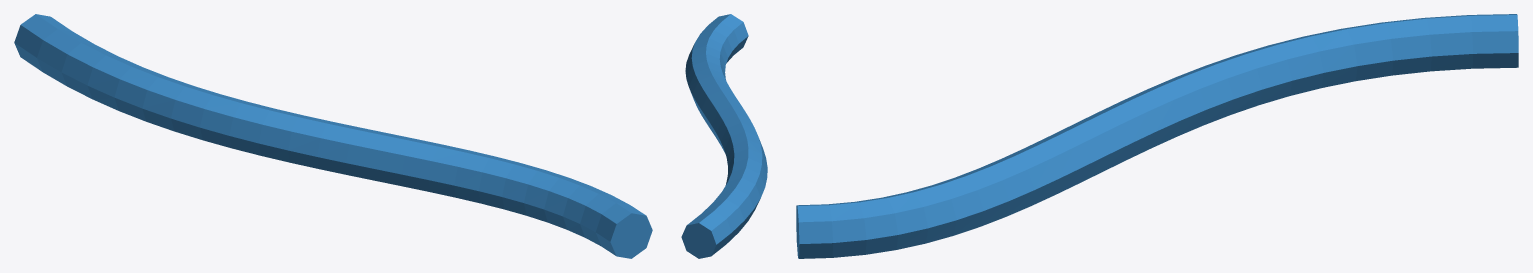
Rendered from motor_blue_lead_to_splice_4.glb.
3 renders of one model, left to right at view 1: azimuth 30°, elevation 25°; view 2: azimuth 150°, elevation 25°; view 3: azimuth 270°, elevation 25°, orthographic. The views are drawn at different scales.
Visible parts, largest first — view 1: motor_blue_lead_to_splice_4; view 2: motor_blue_lead_to_splice_4; view 3: motor_blue_lead_to_splice_4.
Part boxes in pixels (x1,y1,x2,y2): motor_blue_lead_to_splice_4: [14, 14, 652, 258]; motor_blue_lead_to_splice_4: [681, 14, 767, 258]; motor_blue_lead_to_splice_4: [796, 14, 1518, 258].
Bounding box in the file's own units: 12.45 × 2.95 × 21.45.
